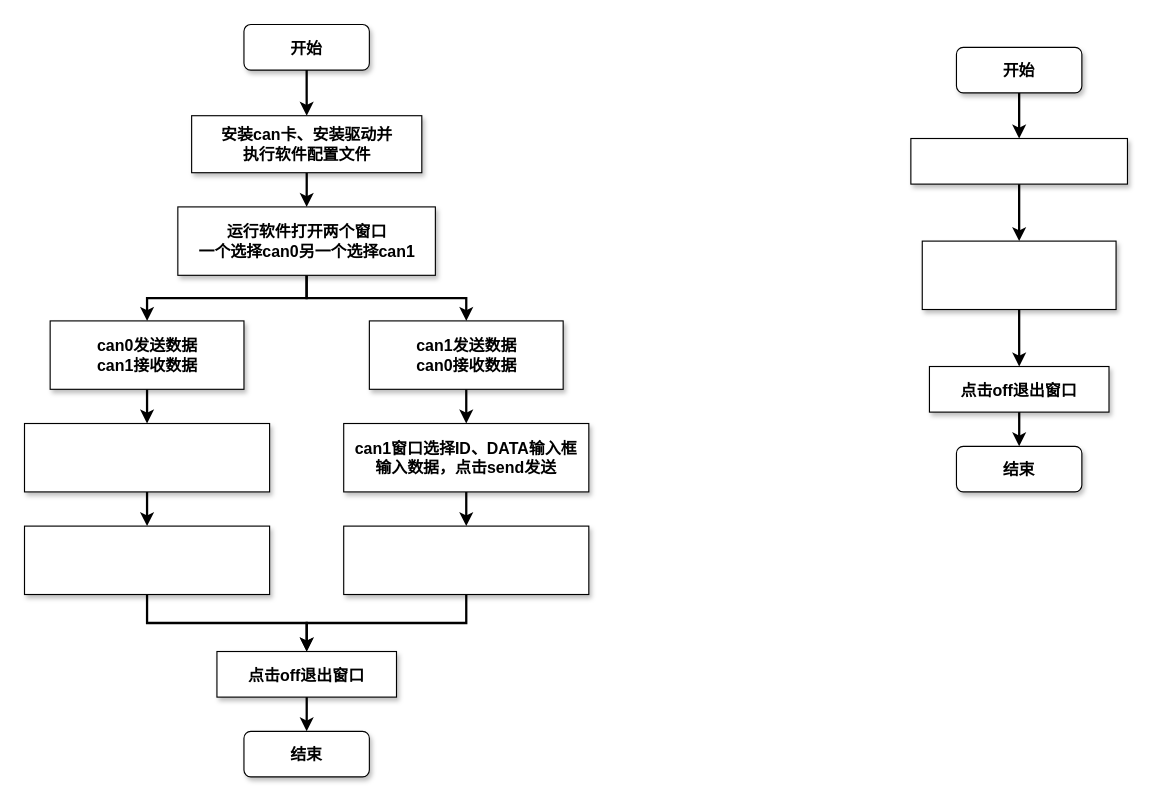
This 1155x805 diagram has some shape labels left out. The centre of each missing label's shape, as x and y in pixels:
can0数据列表显示数据已发送 can1数据列表显示接收到数据: (147,561)
can0窗口选择ID、DATA输入框 输入数据，点击send发送: (147,459)
can1数据列表显示数据已发送 can0数据列表显示接收到数据: (467,561)
选择clear按钮清空该 窗口的数据列表: (1020,276)
鼠标选中数据列表: (1019,162)
